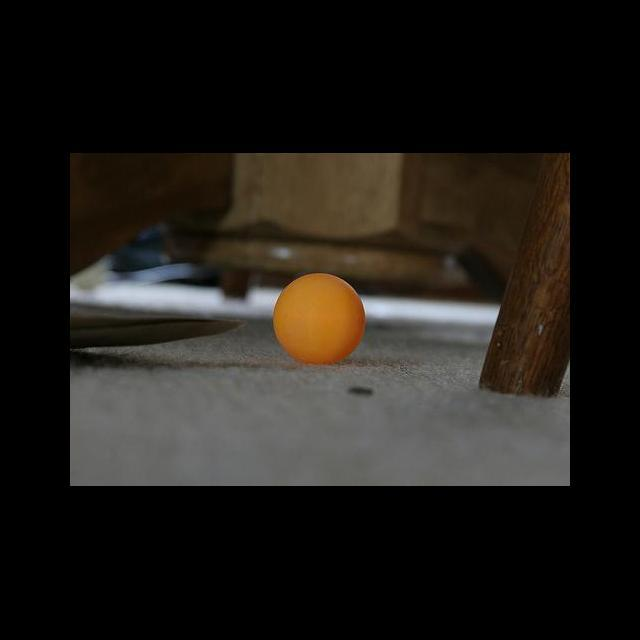ping-pong-ball: (272, 274, 366, 368)
